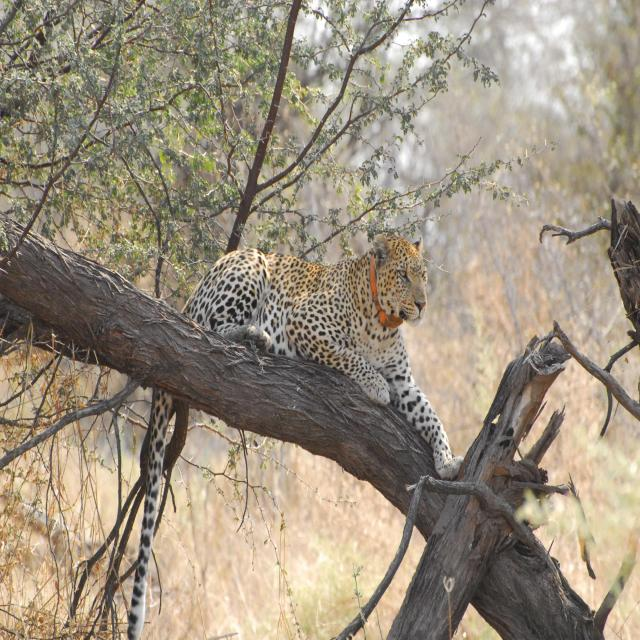Leopard: (131, 219, 470, 618)
